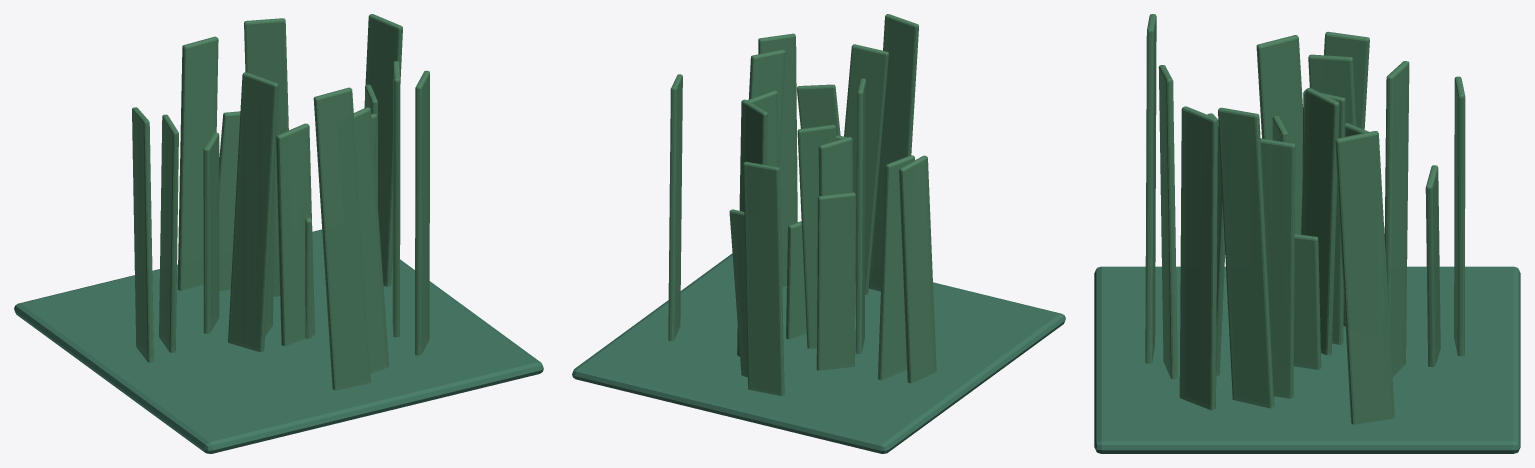
File: SM_FC01_Vegetation_ReedCards_A.fbx
The picture shows the model from 3 angles, left to right: view 1: azimuth 30°, elevation 25°; view 2: azimuth 150°, elevation 25°; view 3: azimuth 270°, elevation 25°; orthographic projection. The views are drawn at different scales.
Visible parts, largest first — view 1: SM_FC01_Vegetation_ReedCards_A_RootMat, SM_FC01_Vegetation_ReedCards_A_Card_14, SM_FC01_Vegetation_ReedCards_A_Card_01, SM_FC01_Vegetation_ReedCards_A_Card_17, SM_FC01_Vegetation_ReedCards_A_Card_13, SM_FC01_Vegetation_ReedCards_A_Card_06, SM_FC01_Vegetation_ReedCards_A_Card_00, SM_FC01_Vegetation_ReedCards_A_Card_04, SM_FC01_Vegetation_ReedCards_A_Card_09, SM_FC01_Vegetation_ReedCards_A_Card_07, SM_FC01_Vegetation_ReedCards_A_Card_12, SM_FC01_Vegetation_ReedCards_A_Card_02 (+4 smaller); view 2: SM_FC01_Vegetation_ReedCards_A_RootMat, SM_FC01_Vegetation_ReedCards_A_Card_17, SM_FC01_Vegetation_ReedCards_A_Card_02, SM_FC01_Vegetation_ReedCards_A_Card_04, SM_FC01_Vegetation_ReedCards_A_Card_14, SM_FC01_Vegetation_ReedCards_A_Card_00, SM_FC01_Vegetation_ReedCards_A_Card_07, SM_FC01_Vegetation_ReedCards_A_Card_08, SM_FC01_Vegetation_ReedCards_A_Card_09, SM_FC01_Vegetation_ReedCards_A_Card_06, SM_FC01_Vegetation_ReedCards_A_Card_01, SM_FC01_Vegetation_ReedCards_A_Card_15 (+6 smaller); view 3: SM_FC01_Vegetation_ReedCards_A_RootMat, SM_FC01_Vegetation_ReedCards_A_Card_06, SM_FC01_Vegetation_ReedCards_A_Card_05, SM_FC01_Vegetation_ReedCards_A_Card_09, SM_FC01_Vegetation_ReedCards_A_Card_10, SM_FC01_Vegetation_ReedCards_A_Card_08, SM_FC01_Vegetation_ReedCards_A_Card_12, SM_FC01_Vegetation_ReedCards_A_Card_01, SM_FC01_Vegetation_ReedCards_A_Card_00, SM_FC01_Vegetation_ReedCards_A_Card_14, SM_FC01_Vegetation_ReedCards_A_Card_15, SM_FC01_Vegetation_ReedCards_A_Card_17 (+5 smaller).
Part boxes in pixels (left/top/right/bottom): SM_FC01_Vegetation_ReedCards_A_RootMat: left=14, top=229, right=543, bottom=453; SM_FC01_Vegetation_ReedCards_A_Card_14: left=313, top=87, right=371, bottom=390; SM_FC01_Vegetation_ReedCards_A_Card_01: left=228, top=72, right=278, bottom=352; SM_FC01_Vegetation_ReedCards_A_Card_17: left=177, top=36, right=218, bottom=290; SM_FC01_Vegetation_ReedCards_A_Card_13: left=276, top=123, right=314, bottom=345; SM_FC01_Vegetation_ReedCards_A_Card_06: left=364, top=14, right=402, bottom=286; SM_FC01_Vegetation_ReedCards_A_Card_00: left=353, top=107, right=389, bottom=373; SM_FC01_Vegetation_ReedCards_A_Card_04: left=132, top=107, right=153, bottom=362; SM_FC01_Vegetation_ReedCards_A_Card_09: left=415, top=70, right=429, bottom=355; SM_FC01_Vegetation_ReedCards_A_Card_07: left=159, top=114, right=178, bottom=352; SM_FC01_Vegetation_ReedCards_A_Card_12: left=244, top=18, right=288, bottom=296; SM_FC01_Vegetation_ReedCards_A_Card_02: left=203, top=132, right=219, bottom=333; SM_FC01_Vegetation_ReedCards_A_RootMat: left=572, top=253, right=1065, bottom=453; SM_FC01_Vegetation_ReedCards_A_Card_17: left=743, top=161, right=784, bottom=395; SM_FC01_Vegetation_ReedCards_A_Card_02: left=816, top=192, right=855, bottom=370; SM_FC01_Vegetation_ReedCards_A_Card_04: left=899, top=155, right=936, bottom=383; SM_FC01_Vegetation_ReedCards_A_Card_14: left=869, top=14, right=918, bottom=291; SM_FC01_Vegetation_ReedCards_A_Card_00: left=844, top=44, right=888, bottom=294; SM_FC01_Vegetation_ReedCards_A_Card_07: left=878, top=155, right=914, bottom=380; SM_FC01_Vegetation_ReedCards_A_Card_08: left=797, top=124, right=836, bottom=348; SM_FC01_Vegetation_ReedCards_A_Card_09: left=758, top=33, right=797, bottom=286; SM_FC01_Vegetation_ReedCards_A_Card_06: left=668, top=74, right=682, bottom=341; SM_FC01_Vegetation_ReedCards_A_Card_01: left=855, top=78, right=866, bottom=354; SM_FC01_Vegetation_ReedCards_A_Card_15: left=786, top=221, right=806, bottom=339; SM_FC01_Vegetation_ReedCards_A_RootMat: left=1094, top=266, right=1520, bottom=453; SM_FC01_Vegetation_ReedCards_A_Card_06: left=1335, top=131, right=1394, bottom=424; SM_FC01_Vegetation_ReedCards_A_Card_05: left=1218, top=107, right=1274, bottom=408; SM_FC01_Vegetation_ReedCards_A_Card_09: left=1179, top=106, right=1217, bottom=410; SM_FC01_Vegetation_ReedCards_A_Card_10: left=1260, top=138, right=1295, bottom=398; SM_FC01_Vegetation_ReedCards_A_Card_08: left=1301, top=88, right=1339, bottom=355; SM_FC01_Vegetation_ReedCards_A_Card_12: left=1384, top=61, right=1409, bottom=376; SM_FC01_Vegetation_ReedCards_A_Card_01: left=1256, top=35, right=1302, bottom=234; SM_FC01_Vegetation_ReedCards_A_Card_00: left=1158, top=65, right=1177, bottom=379; SM_FC01_Vegetation_ReedCards_A_Card_14: left=1145, top=14, right=1156, bottom=363; SM_FC01_Vegetation_ReedCards_A_Card_15: left=1293, top=234, right=1321, bottom=369; SM_FC01_Vegetation_ReedCards_A_Card_17: left=1454, top=76, right=1465, bottom=356.
Size of the model in its own units: 1.5 by 1.31 by 1.5.
